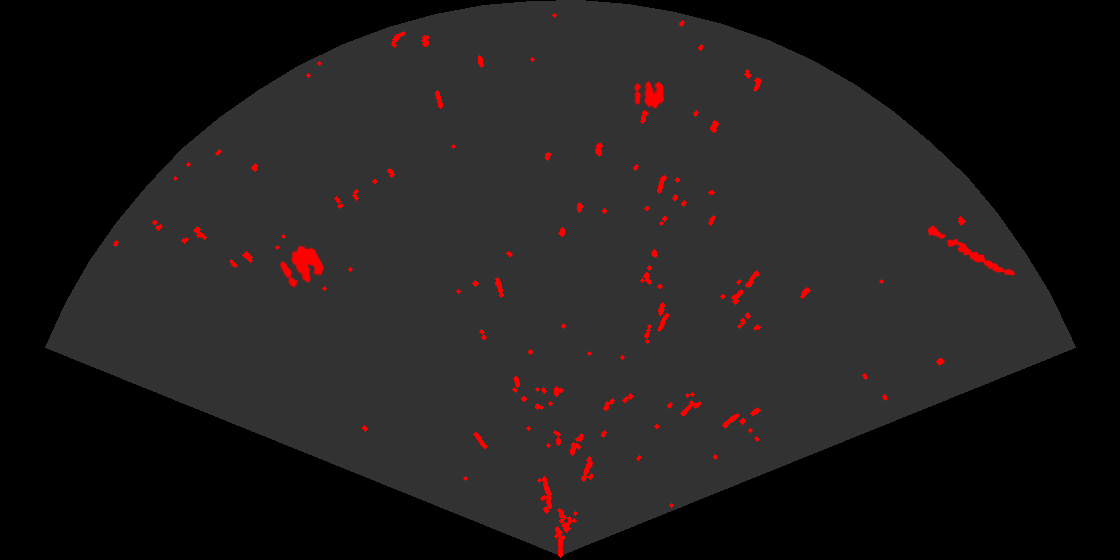ball: (278, 244, 326, 289), (633, 79, 666, 110)
chain: (926, 224, 1017, 277)
